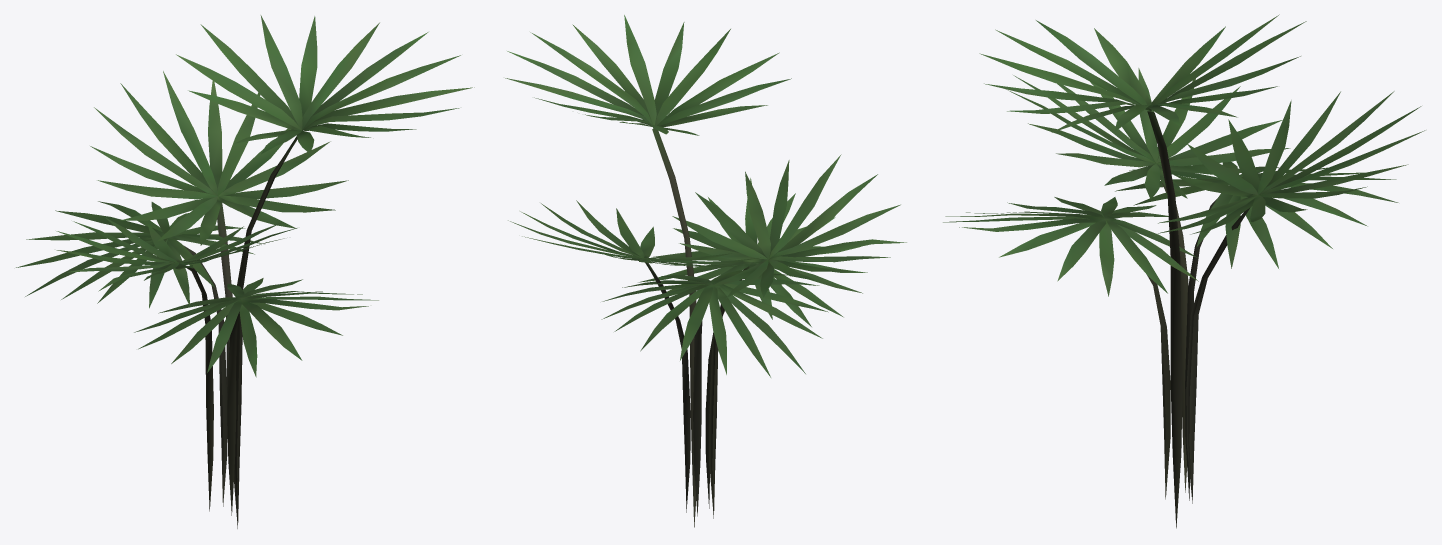
The model's file is plants-trees-palms-fan-palm_v1.fbx.
The picture shows the model from 3 angles, left to right: view 1: azimuth 30°, elevation 25°; view 2: azimuth 150°, elevation 25°; view 3: azimuth 270°, elevation 25°; orthographic projection. The views are drawn at different scales.
Parts seen in each view (by area): view 1: Fan Palm_v1; view 2: Fan Palm_v1; view 3: Fan Palm_v1.
Boxes of the visible parts, x1=… form: Fan Palm_v1: x1=16, y1=15, x2=474, y2=528; Fan Palm_v1: x1=505, y1=15, x2=906, y2=527; Fan Palm_v1: x1=943, y1=14, x2=1425, y2=528.
Bounding box in the file's own units: 1.32 × 1.5 × 1.28.
